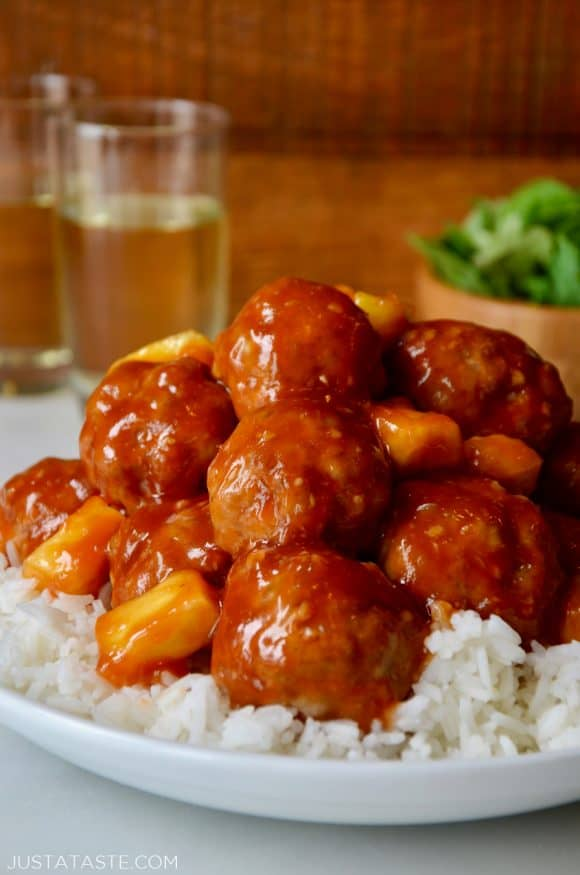meatballs: (231, 542, 408, 711), (396, 485, 556, 617), (221, 410, 380, 538), (223, 278, 376, 408), (91, 370, 234, 504), (414, 317, 564, 440), (3, 456, 107, 562), (114, 515, 224, 612)
plain rice: (1, 648, 580, 766), (4, 579, 95, 704)
